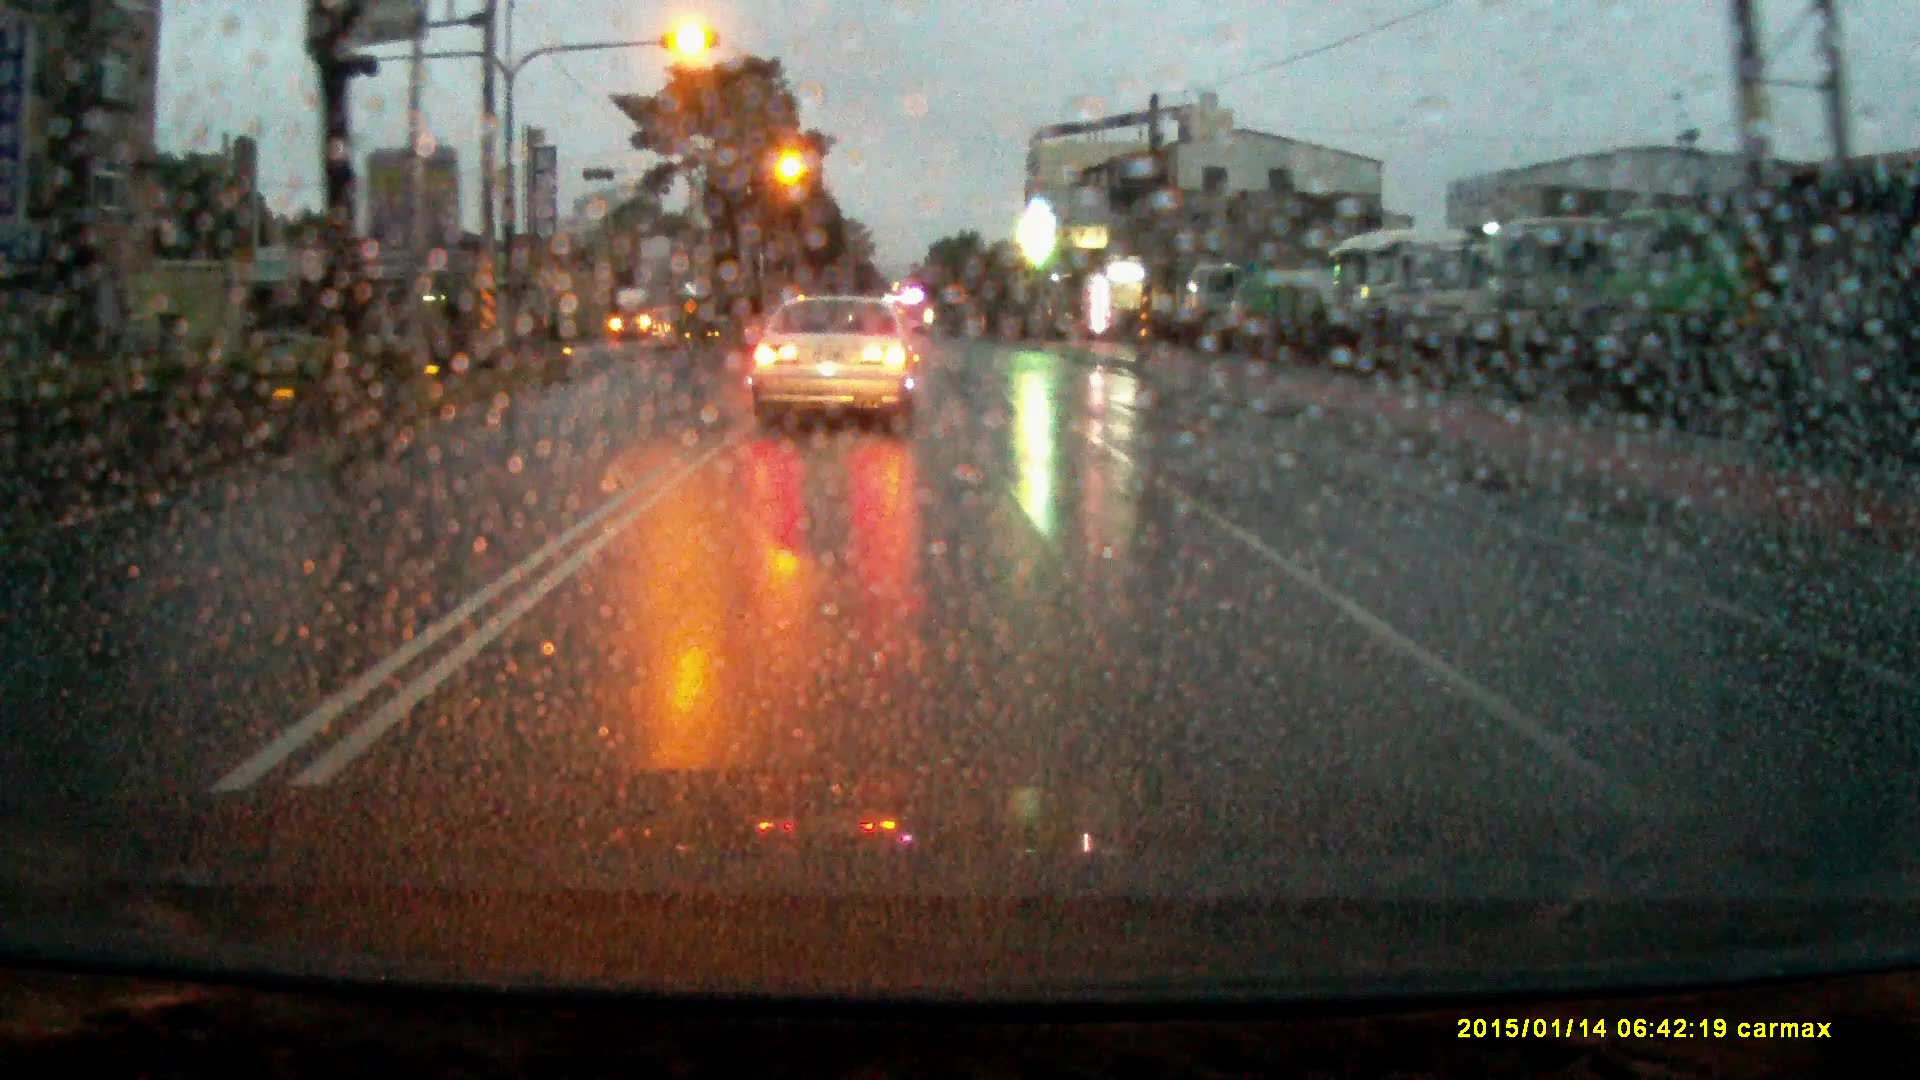vehicle: (1618, 200, 1753, 414), (749, 295, 923, 431), (1495, 214, 1615, 396), (1393, 228, 1497, 367), (1331, 237, 1419, 345), (1222, 272, 1357, 334), (1187, 264, 1249, 330), (613, 287, 673, 340)
